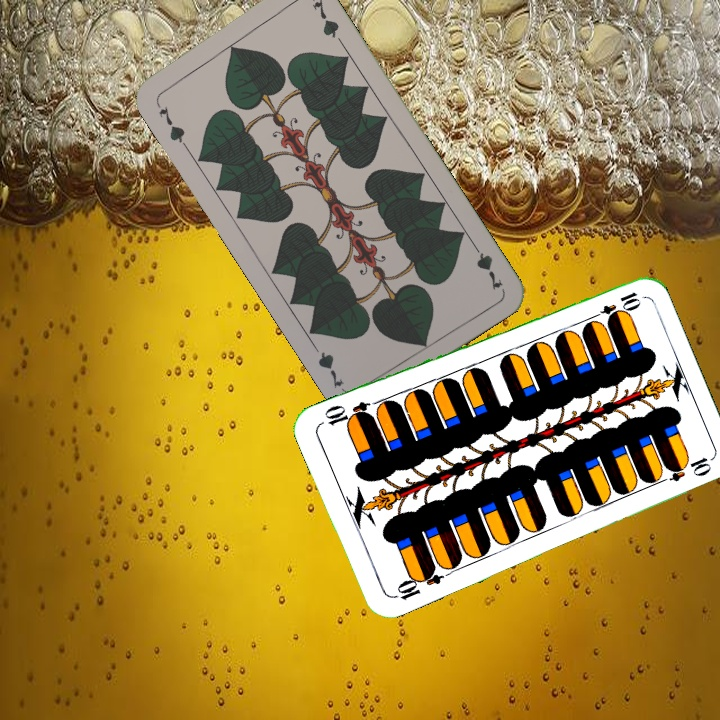E10: (389, 563, 445, 603), (586, 287, 643, 324)
G7: (467, 238, 506, 293), (151, 97, 190, 150)
